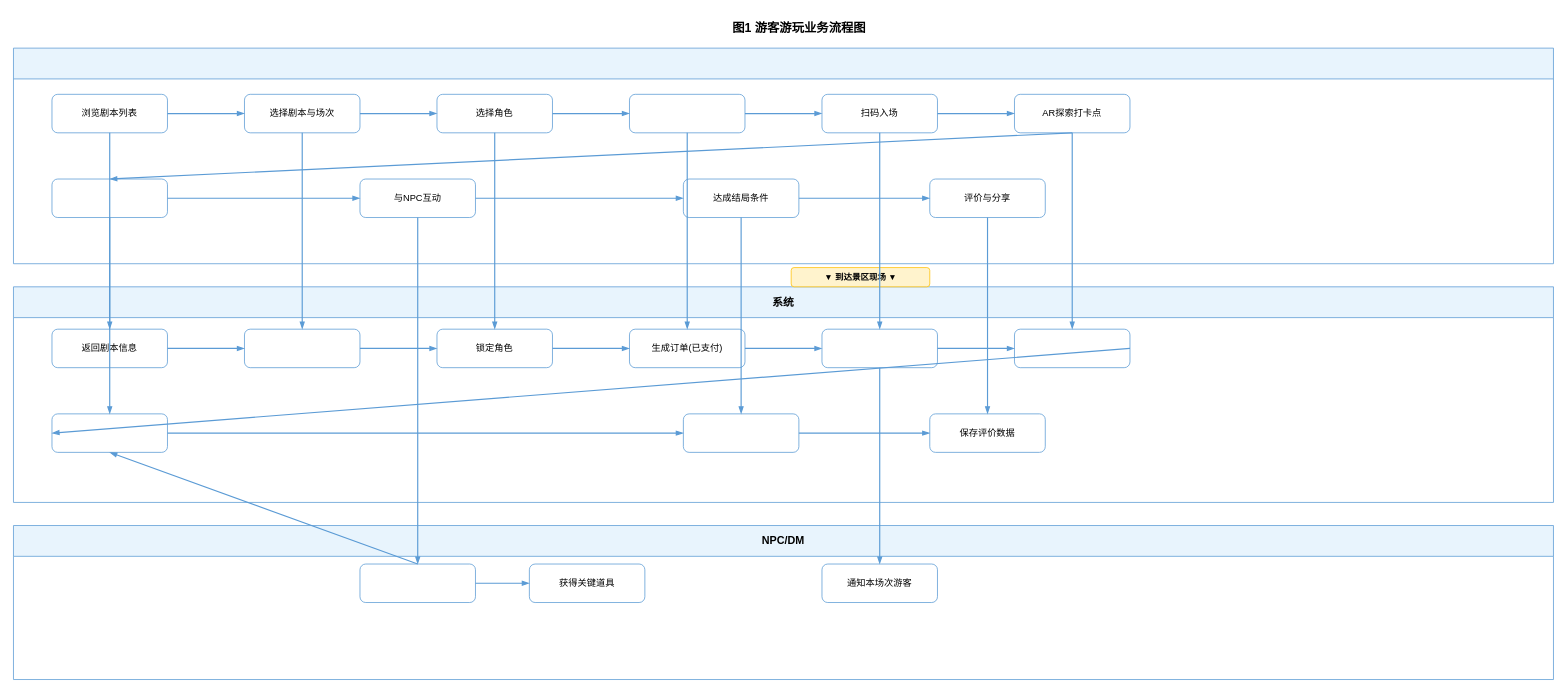
Some shapes in this 1567 by 693 pixel diagram are drawn without their labels. Here are the shapes that lost their labels. From the top down, the box of each, then its label:
(629, 94, 745, 133): 在线支付
(13, 47, 1553, 264): 游客（C端）
(51, 178, 167, 218): 提交线索答案
(244, 328, 360, 368): 检测余量
(821, 328, 937, 368): 核验订单,激活进度
(1014, 328, 1130, 368): 条件满足→发放线索
(51, 413, 167, 452): 答案正确→更新进度
(683, 413, 799, 452): 解锁结局,生成报告
(359, 563, 475, 603): NPC核验游客 标记互动完成
